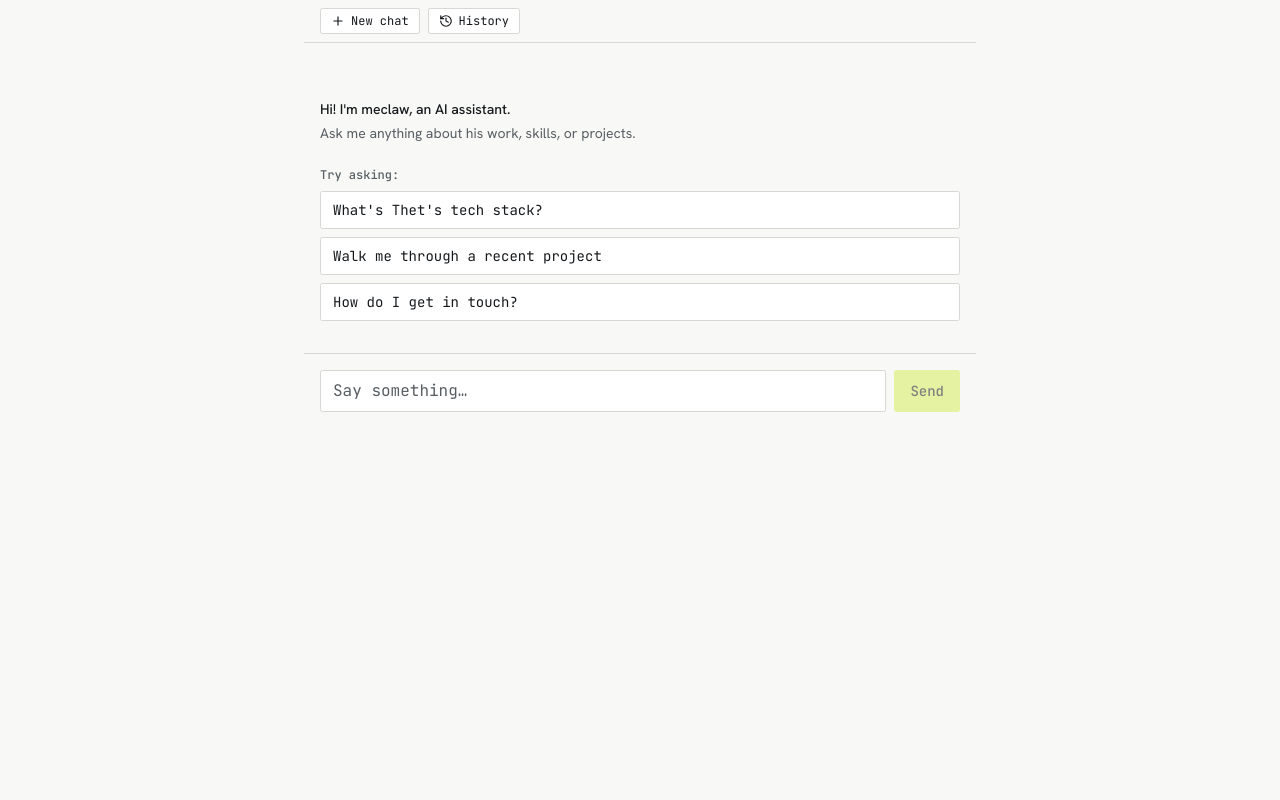
History drawer wiring (normal mode) › opens the drawer and lists a stored session
Click the button "History" at (474, 21), box [428,8,520,34]
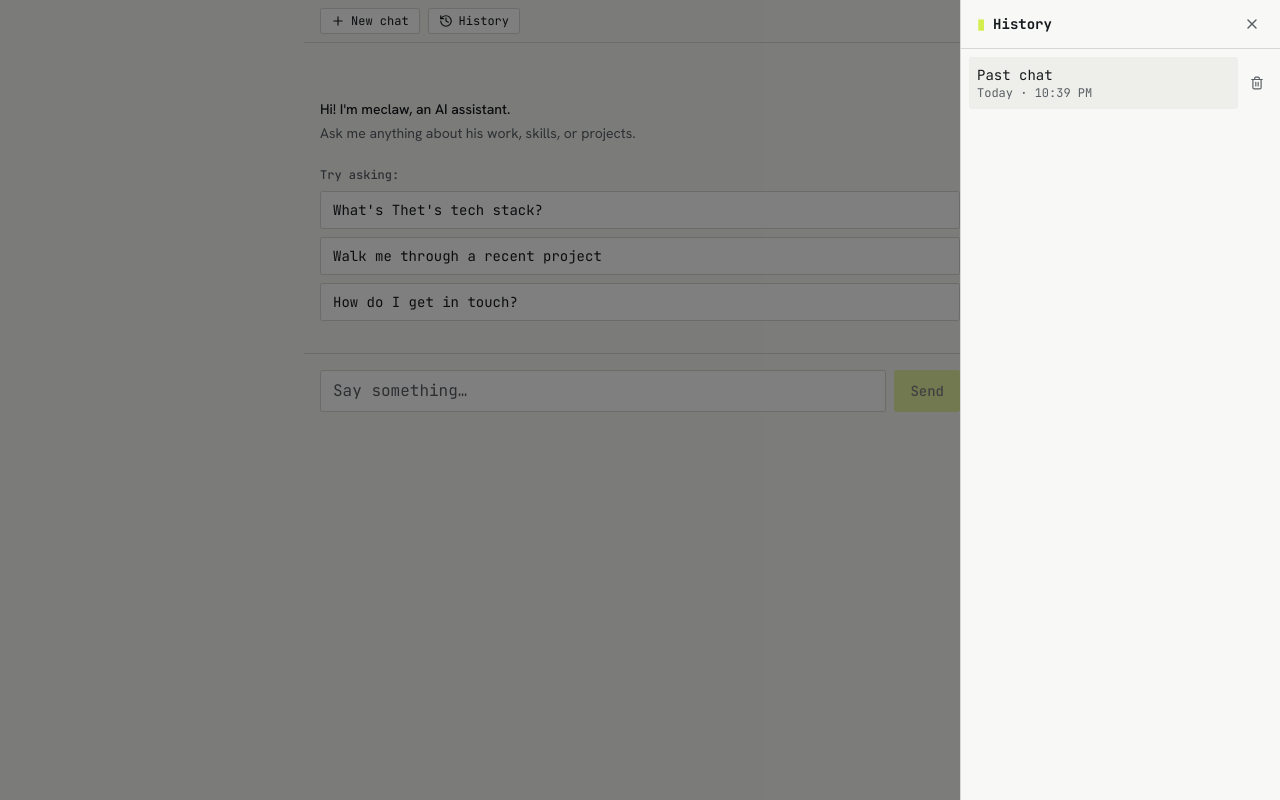
Expected: the text "Past chat" is shown, [977,66,1053,84]
